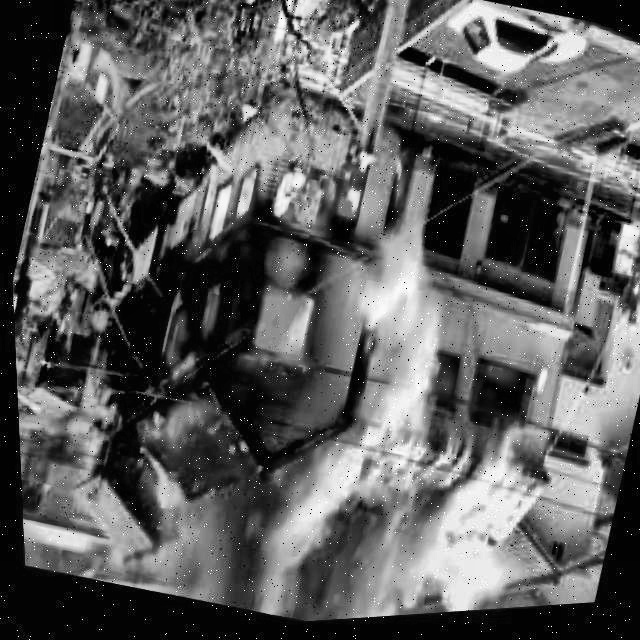Fire: (310, 479, 434, 625), (110, 372, 248, 483), (242, 289, 315, 370), (333, 161, 374, 229), (378, 153, 416, 222), (421, 351, 461, 412), (198, 185, 235, 248), (471, 363, 519, 401), (234, 176, 255, 217)
Smoke: (147, 369, 544, 633)
